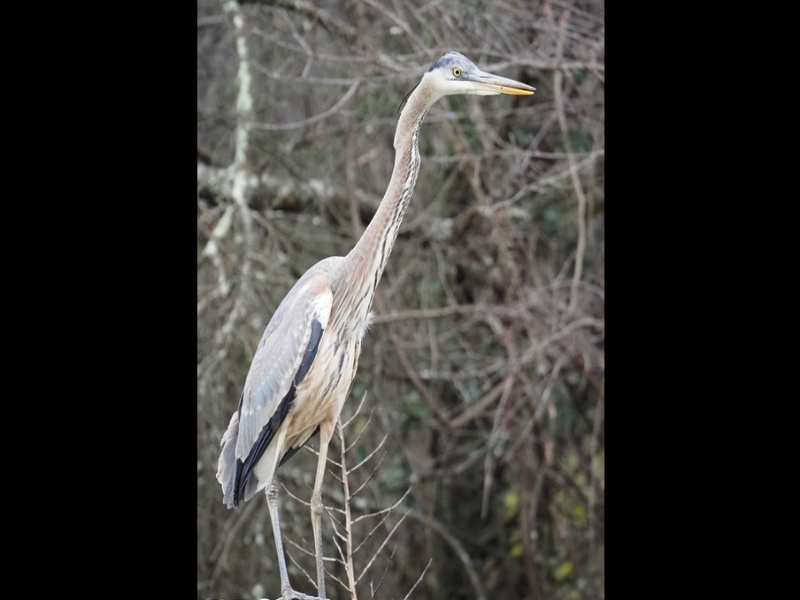heron: (214, 48, 540, 600)
